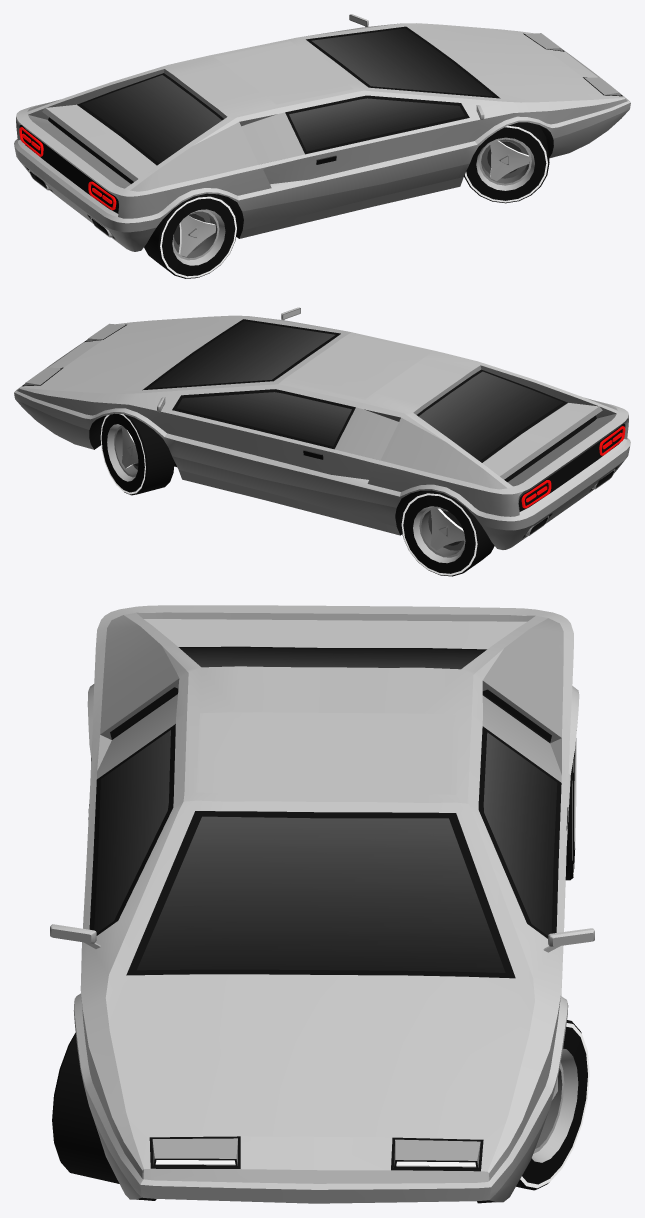
The model's file is Car_160.glb.
3 renders of one model, top to bottom at view 1: azimuth 30°, elevation 25°; view 2: azimuth 150°, elevation 25°; view 3: azimuth 270°, elevation 25°, orthographic. The views are drawn at different scales.
Parts seen in each view (by area): view 1: Car_160, wheel_3_Car_160_Wheel_3R, wheel_1_Car_160_Wheel_2R; view 2: Car_160, wheel_2_Car_160_Wheel_3L, wheel_0_Car_160_Wheel_1L; view 3: Car_160, wheel_0_Car_160_Wheel_1L, wheel_1_Car_160_Wheel_2R, wheel_2_Car_160_Wheel_3L.
Part boxes in pixels (x1,y1,x2,y2): Car_160: (14, 14, 630, 251); wheel_3_Car_160_Wheel_3R: (144, 193, 237, 278); wheel_1_Car_160_Wheel_2R: (464, 122, 549, 203); Car_160: (14, 307, 630, 549); wheel_2_Car_160_Wheel_3L: (401, 490, 494, 576); wheel_0_Car_160_Wheel_1L: (100, 413, 174, 495); Car_160: (50, 605, 594, 1203); wheel_0_Car_160_Wheel_1L: (516, 1020, 589, 1190); wheel_1_Car_160_Wheel_2R: (52, 1033, 119, 1183); wheel_2_Car_160_Wheel_3L: (565, 738, 576, 880).
Size of the model in its own units: 4.6 by 1.08 by 2.06.
2 materials, 2 textured.
